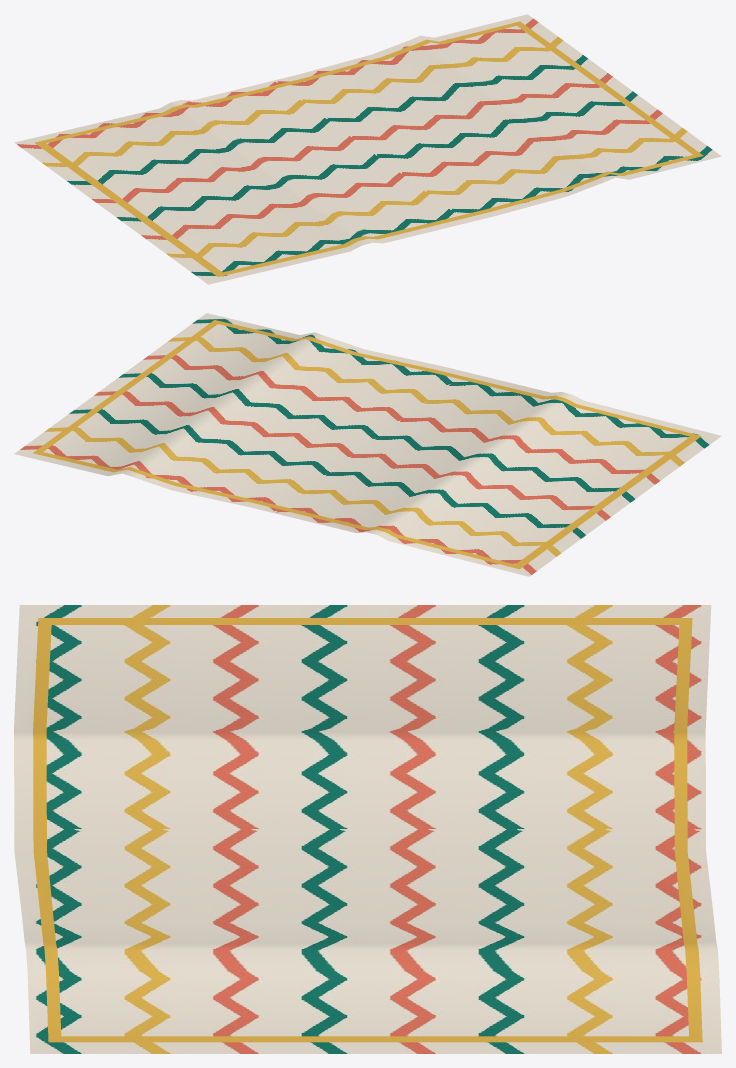
The model's file is rug_c.glb.
The picture shows the model from 3 angles, top to bottom: view 1: azimuth 30°, elevation 25°; view 2: azimuth 150°, elevation 25°; view 3: azimuth 270°, elevation 25°; orthographic projection. The views are drawn at different scales.
Parts seen in each view (by area): view 1: Carpet_1; view 2: Carpet_1; view 3: Carpet_1.
Part boxes in pixels (<box>): Carpet_1: <box>14,14,721,284</box>; Carpet_1: <box>14,313,721,576</box>; Carpet_1: <box>14,605,721,1053</box>.
Bounding box in the file's own units: 1.8 × 0.02 × 1.2.
Materials: 2 (1 with a texture image).
